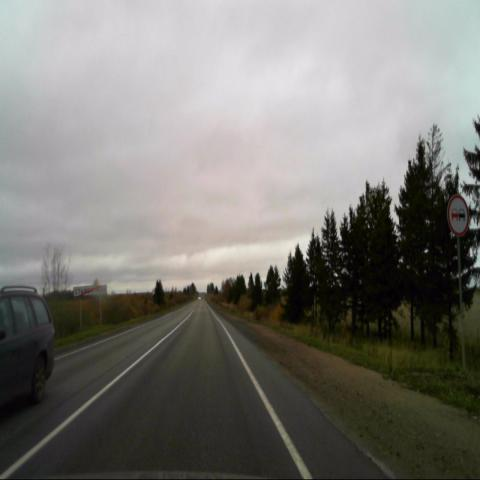3_20: (447, 194, 470, 238)
